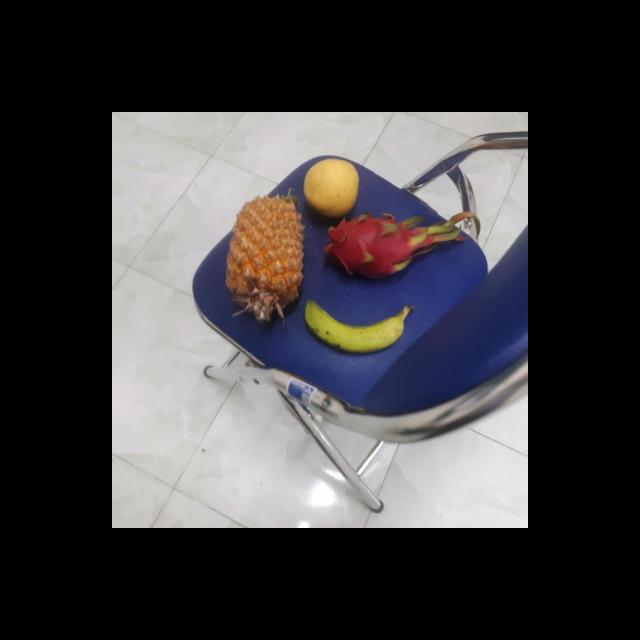Sakya fruit: (228, 194, 306, 322)
banana: (308, 294, 412, 352)
pear: (302, 158, 362, 218)
pitaya: (328, 212, 434, 280)
